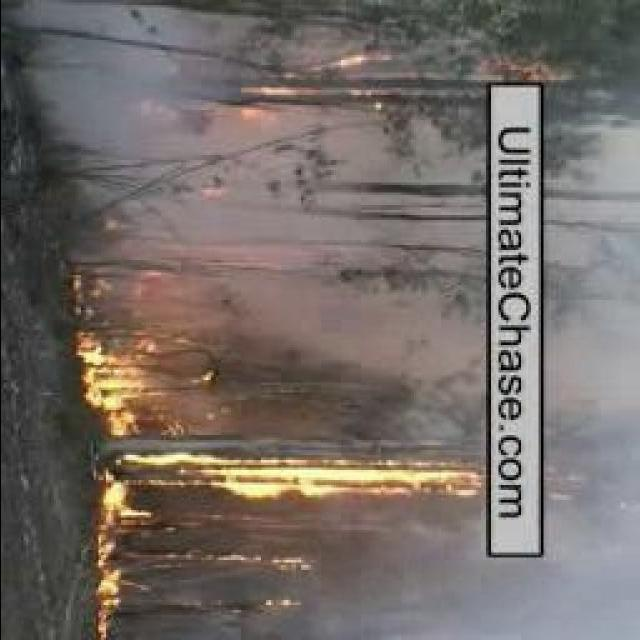Fire: (92, 462, 496, 520), (224, 48, 387, 132), (68, 326, 162, 434), (141, 548, 317, 586), (92, 545, 124, 634), (488, 56, 562, 89)
